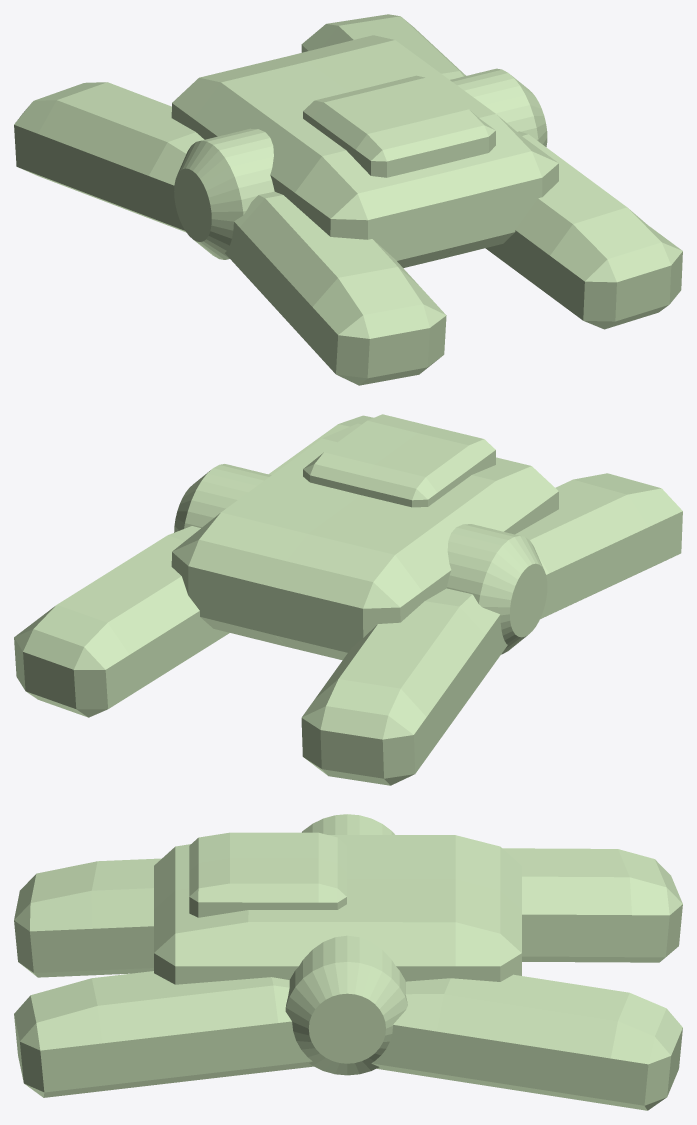
The model's file is tank_body_spider.fbx.
The picture shows the model from 3 angles, top to bottom: view 1: azimuth 30°, elevation 25°; view 2: azimuth 150°, elevation 25°; view 3: azimuth 270°, elevation 25°; orthographic projection. The views are drawn at different scales.
Visible parts, largest first — view 1: SpiderTank; view 2: SpiderTank; view 3: SpiderTank.
Part boxes in pixels (x1,y1,x2,y2): SpiderTank: (14, 14, 682, 385); SpiderTank: (14, 414, 682, 785); SpiderTank: (14, 814, 682, 1110).
Size of the model in its own units: 152 by 58.7 by 215.
